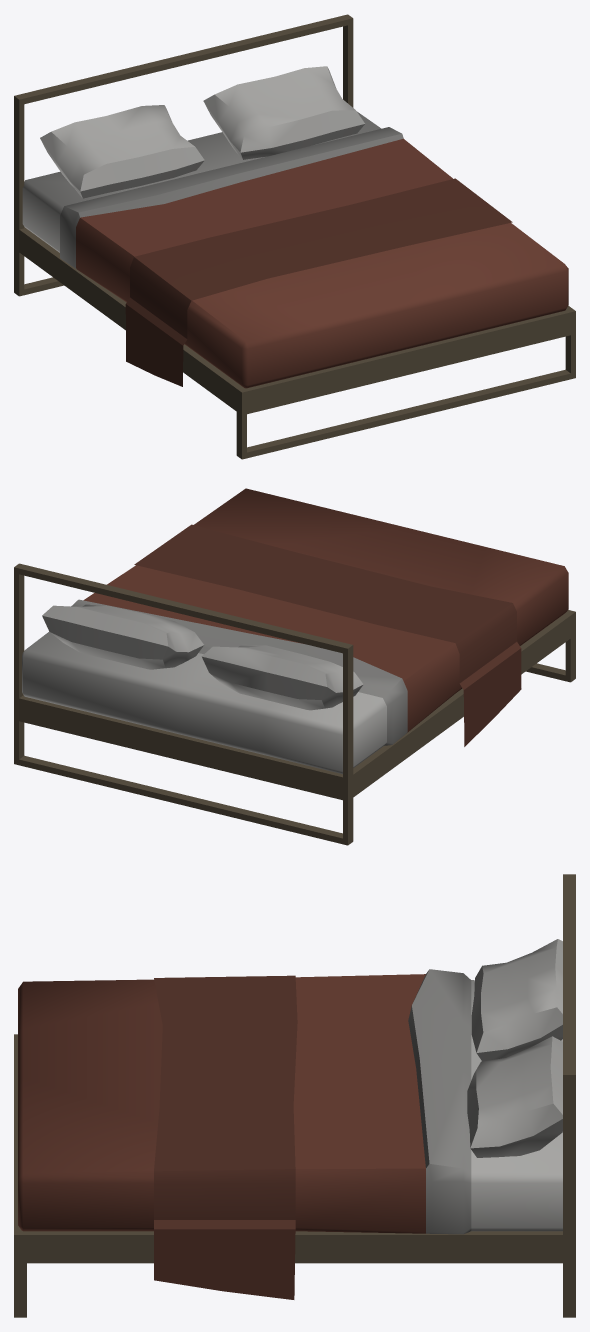
File: furn-bed-king.glb
3 views of the same model, one above another, from view 1: azimuth 30°, elevation 25°; view 2: azimuth 150°, elevation 25°; view 3: azimuth 270°, elevation 25° (orthographic). The views are drawn at different scales.
Visible parts, largest first — view 1: Bed_King; view 2: Bed_King; view 3: Bed_King.
Part boxes in pixels (x1=…): Bed_King: x1=14, y1=14, x2=575, y2=459; Bed_King: x1=14, y1=488, x2=575, y2=845; Bed_King: x1=14, y1=874, x2=575, y2=1317.
Size of the model in its own units: 1.8 by 1 by 2.1.
